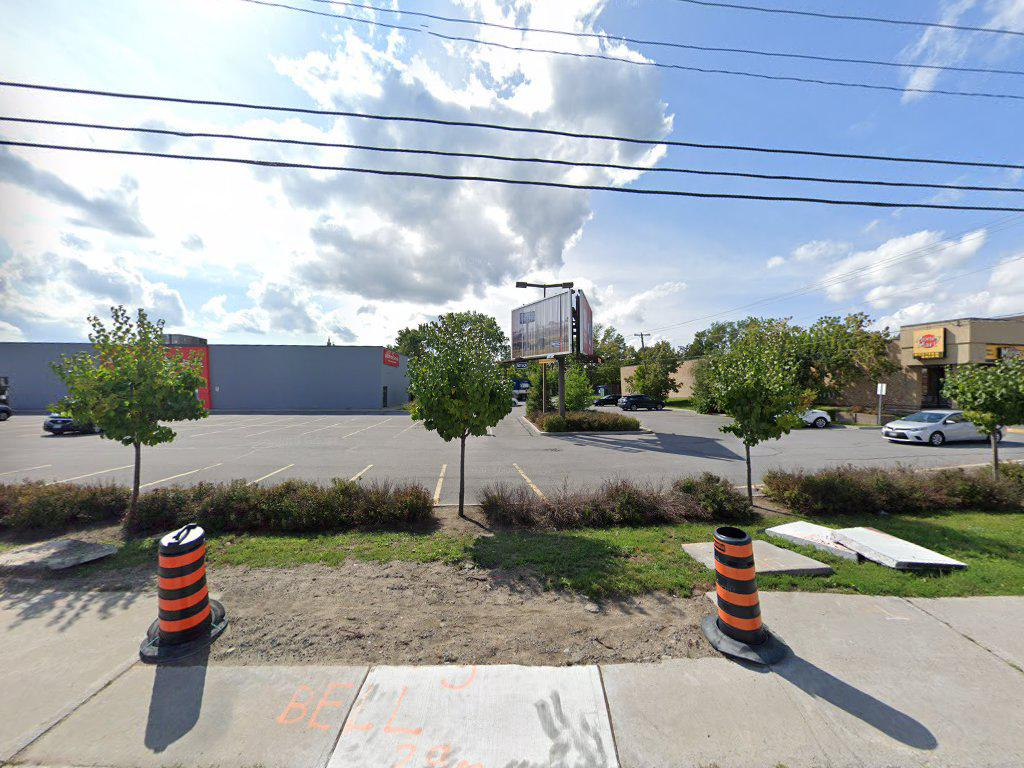trunk: (452, 422, 472, 524), (128, 432, 146, 508), (743, 431, 758, 508)
